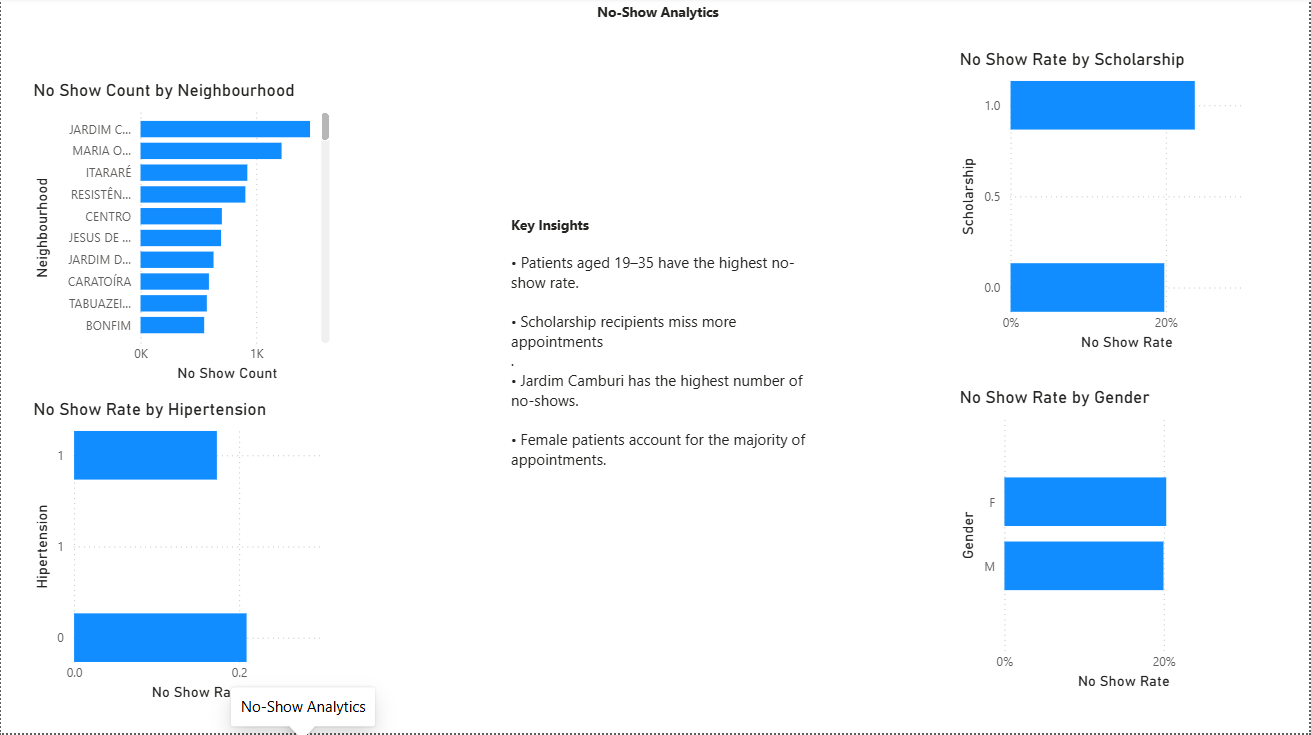

This screenshot's page, from the dashboard's own definition file:
{"tool":"powerbi","page":{"name":"No-Show Analytics","canvas":[1280,720],"ordinal":1},"visuals":[{"type":"textbox","box":[505,0,275.1,33],"z":0},{"type":"clusteredBarChart","fields":{"Category":["healthcare_db appointments_clean.Neighbourhood"],"Y":["healthcare_db appointments_clean.No Show Count"]},"box":[26.9,80.7,299.6,300.8],"z":1},{"type":"clusteredBarChart","fields":{"Category":["healthcare_db appointments_clean.Hipertension"],"Y":["healthcare_db appointments_clean.No Show Rate"]},"box":[27,392,300,301],"z":2},{"type":"clusteredBarChart","fields":{"Category":["healthcare_db appointments_clean.Scholarship"],"Y":["healthcare_db appointments_clean.No Show Rate"]},"box":[933,50.1,299.6,300.8],"z":3},{"type":"clusteredBarChart","fields":{"Category":["healthcare_db appointments_clean.Gender"],"Y":["healthcare_db appointments_clean.No Show Rate"]},"box":[933,381.5,299.6,300.8],"z":4},{"type":"textbox","box":[494,209.1,299.6,300.8],"z":5}]}

Visuals, with their boxes in screenshot pixels (x1, y1, x2, y2), scaled from the page's 1280x720 canvas onto the 1311x735 screenshot:
textbox: 517,0,799,34
clusteredBarChart - healthcare_db appointments_clean.Neighbourhood x healthcare_db appointments_clean.No Show Count: 28,82,334,389
clusteredBarChart - healthcare_db appointments_clean.Hipertension x healthcare_db appointments_clean.No Show Rate: 28,400,335,707
clusteredBarChart - healthcare_db appointments_clean.Scholarship x healthcare_db appointments_clean.No Show Rate: 956,51,1262,358
clusteredBarChart - healthcare_db appointments_clean.Gender x healthcare_db appointments_clean.No Show Rate: 956,389,1262,697
textbox: 506,213,813,521
